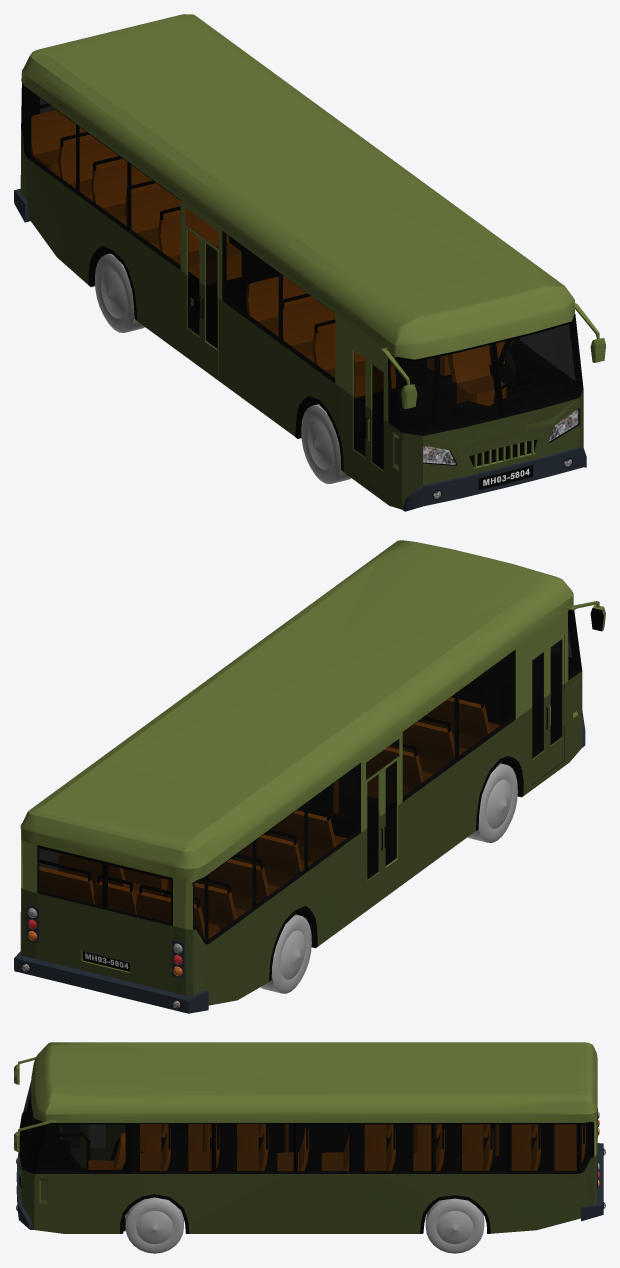
File: Bus_01.fbx
The picture shows the model from 3 angles, top to bottom: view 1: azimuth 30°, elevation 25°; view 2: azimuth 150°, elevation 25°; view 3: azimuth 270°, elevation 25°; orthographic projection. The views are drawn at different scales.
Visible parts, largest first — view 1: Bus_1body, Windows, FR, RR, Bus_1_DoorGlass (×2), Bus_1_door_R, Bus_1_Door_L; view 2: Bus_1body, Windows, Bus_1_DoorGlass (×2), RR, FR, Bus_1_door_R, Bus_1_Door_L; view 3: Bus_1body, Windows, FL, RL, Bus_1_door_R, Bus_1_DoorGlass.
Part boxes in pixels (<box>): Bus_1body: <box>14,14,605,511</box>; Windows: <box>23,85,581,432</box>; FR: <box>301,404,351,483</box>; RR: <box>95,253,144,332</box>; Bus_1_DoorGlass (×2): <box>354,351,383,470</box>; Bus_1_door_R: <box>351,347,368,484</box>; Bus_1_Door_L: <box>368,359,384,496</box>; Bus_1body: <box>14,540,605,1013</box>; Windows: <box>39,611,578,939</box>; Bus_1_DoorGlass (×2): <box>532,639,562,758</box>; RR: <box>261,914,311,993</box>; FR: <box>468,763,517,842</box>; Bus_1_door_R: <box>531,647,547,784</box>; Bus_1_Door_L: <box>548,636,564,772</box>; Bus_1body: <box>14,1042,605,1233</box>; Windows: <box>21,1080,591,1171</box>; FL: <box>125,1197,183,1253</box>; RL: <box>425,1198,484,1253</box>; Bus_1_door_R: <box>84,1124,108,1165</box>; Bus_1_DoorGlass: <box>89,1125,105,1147</box>.
Bounding box in the file's own units: 239 × 236 × 828.
